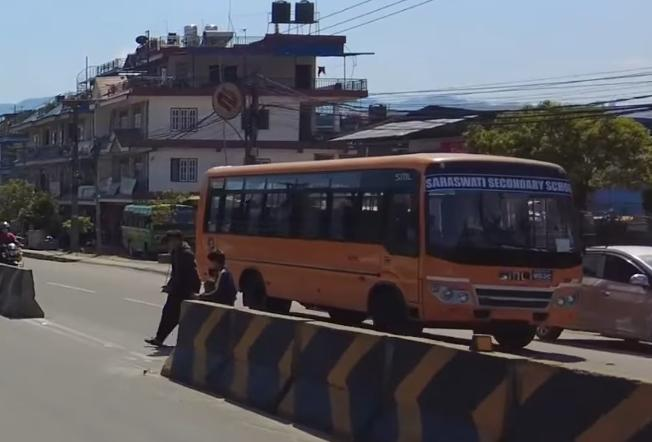bike: (0, 222, 29, 275)
bus: (118, 197, 195, 259)
car: (539, 241, 652, 352)
school_bus: (189, 146, 584, 361)
